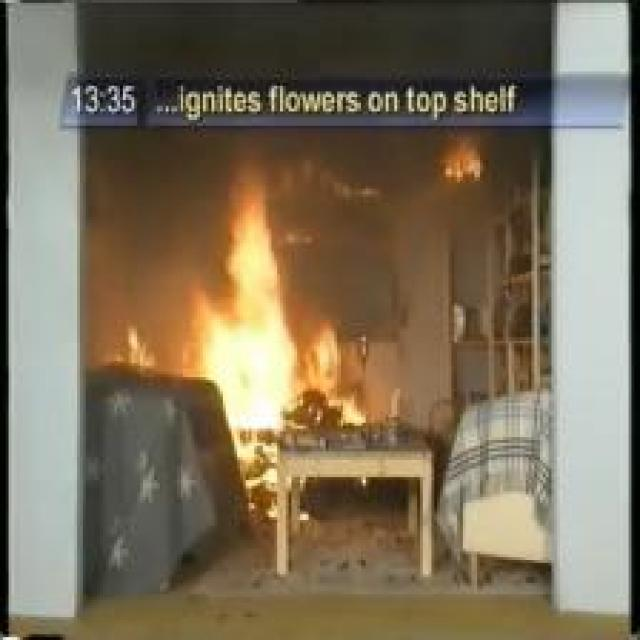Fire: (182, 182, 368, 458)
